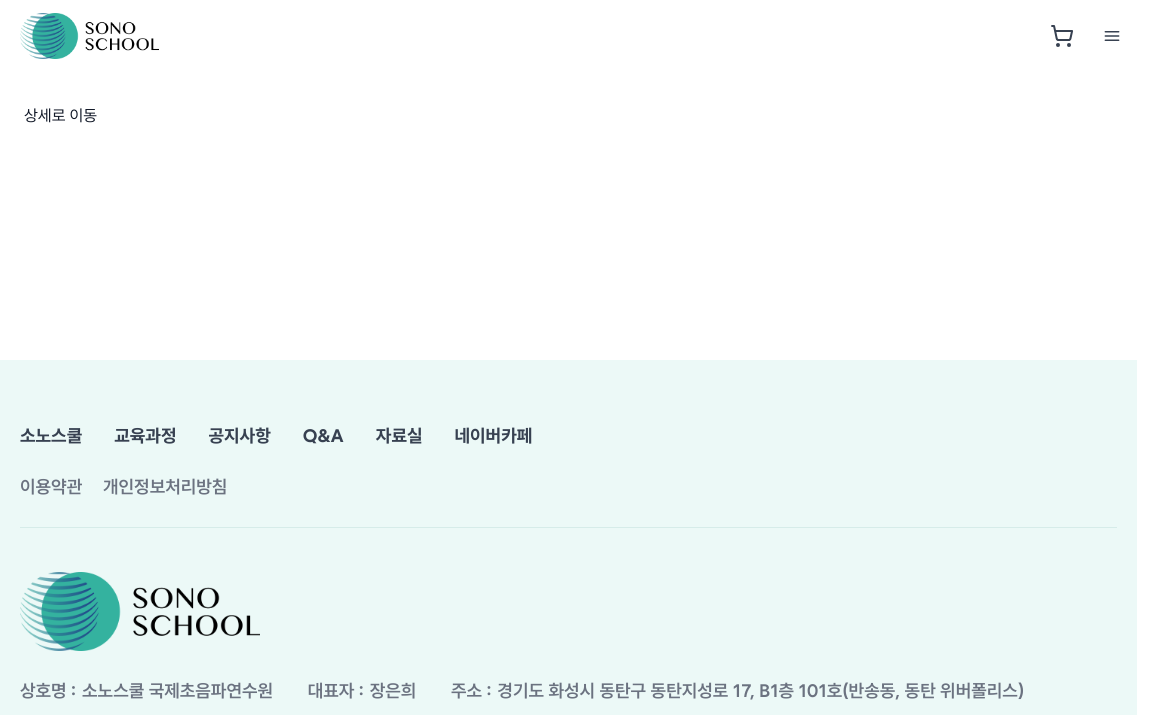
Test: RootLayout › resets window scroll to top when pathname changes
This screenshot has width=1152, height=715.
Click the link "상세로 이동".
click(61, 116)  # box [24,106,97,125]
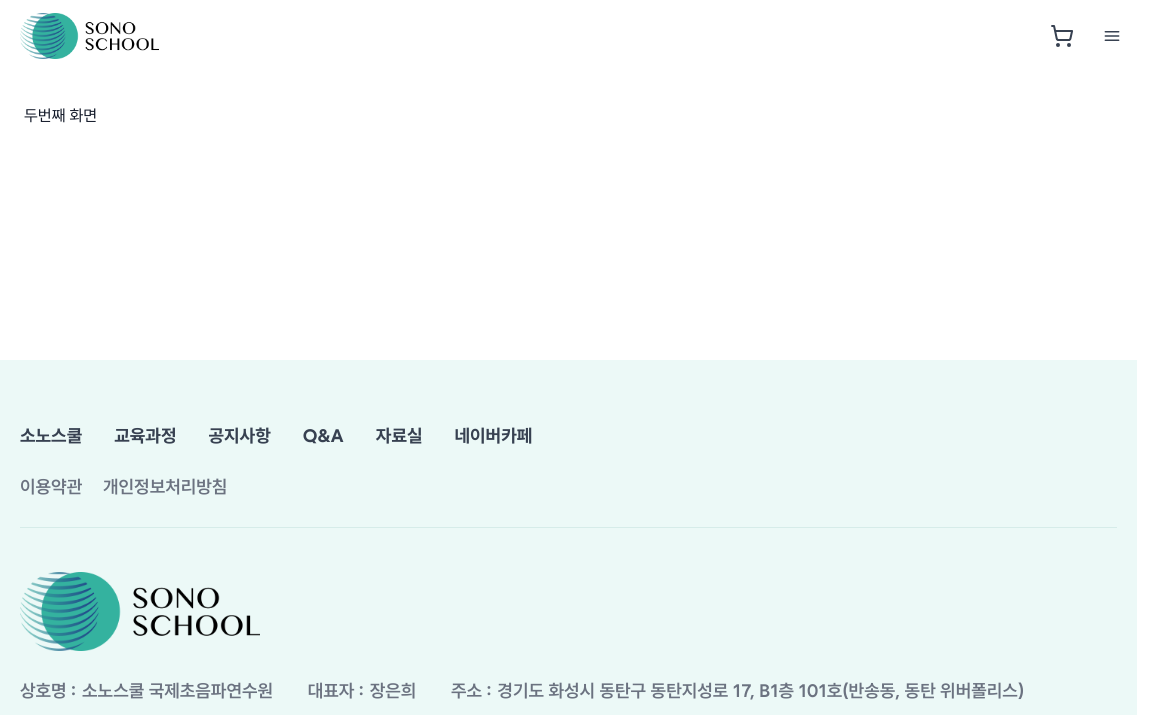
Check: the text "두번째 화면" is shown, box [24,106,97,125]
